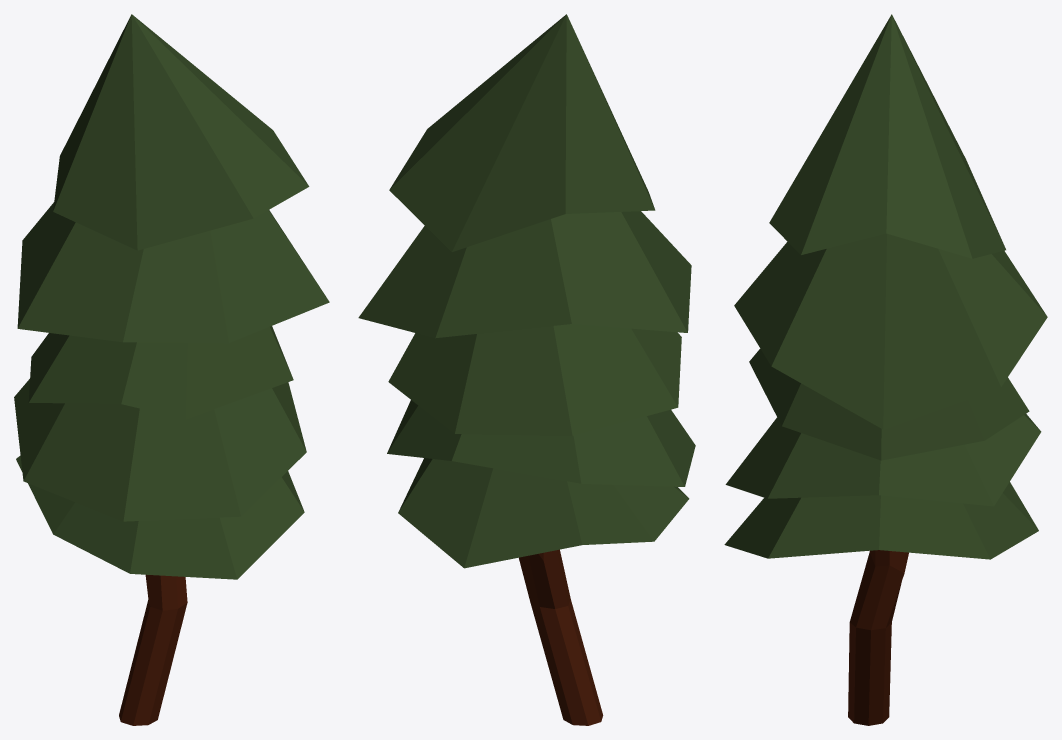
The model's file is agac3.fbx.
The picture shows the model from 3 angles, left to right: view 1: azimuth 30°, elevation 25°; view 2: azimuth 150°, elevation 25°; view 3: azimuth 270°, elevation 25°; orthographic projection. The views are drawn at different scales.
Parts seen in each view (by area): view 1: Circle.002; view 2: Circle.002; view 3: Circle.002.
Part boxes in pixels (x1,y1,x2,y2): Circle.002: [14, 14, 329, 725]; Circle.002: [358, 14, 695, 725]; Circle.002: [724, 14, 1047, 725].
Size of the model in its own units: 0.9873 by 2.31 by 0.9583.
